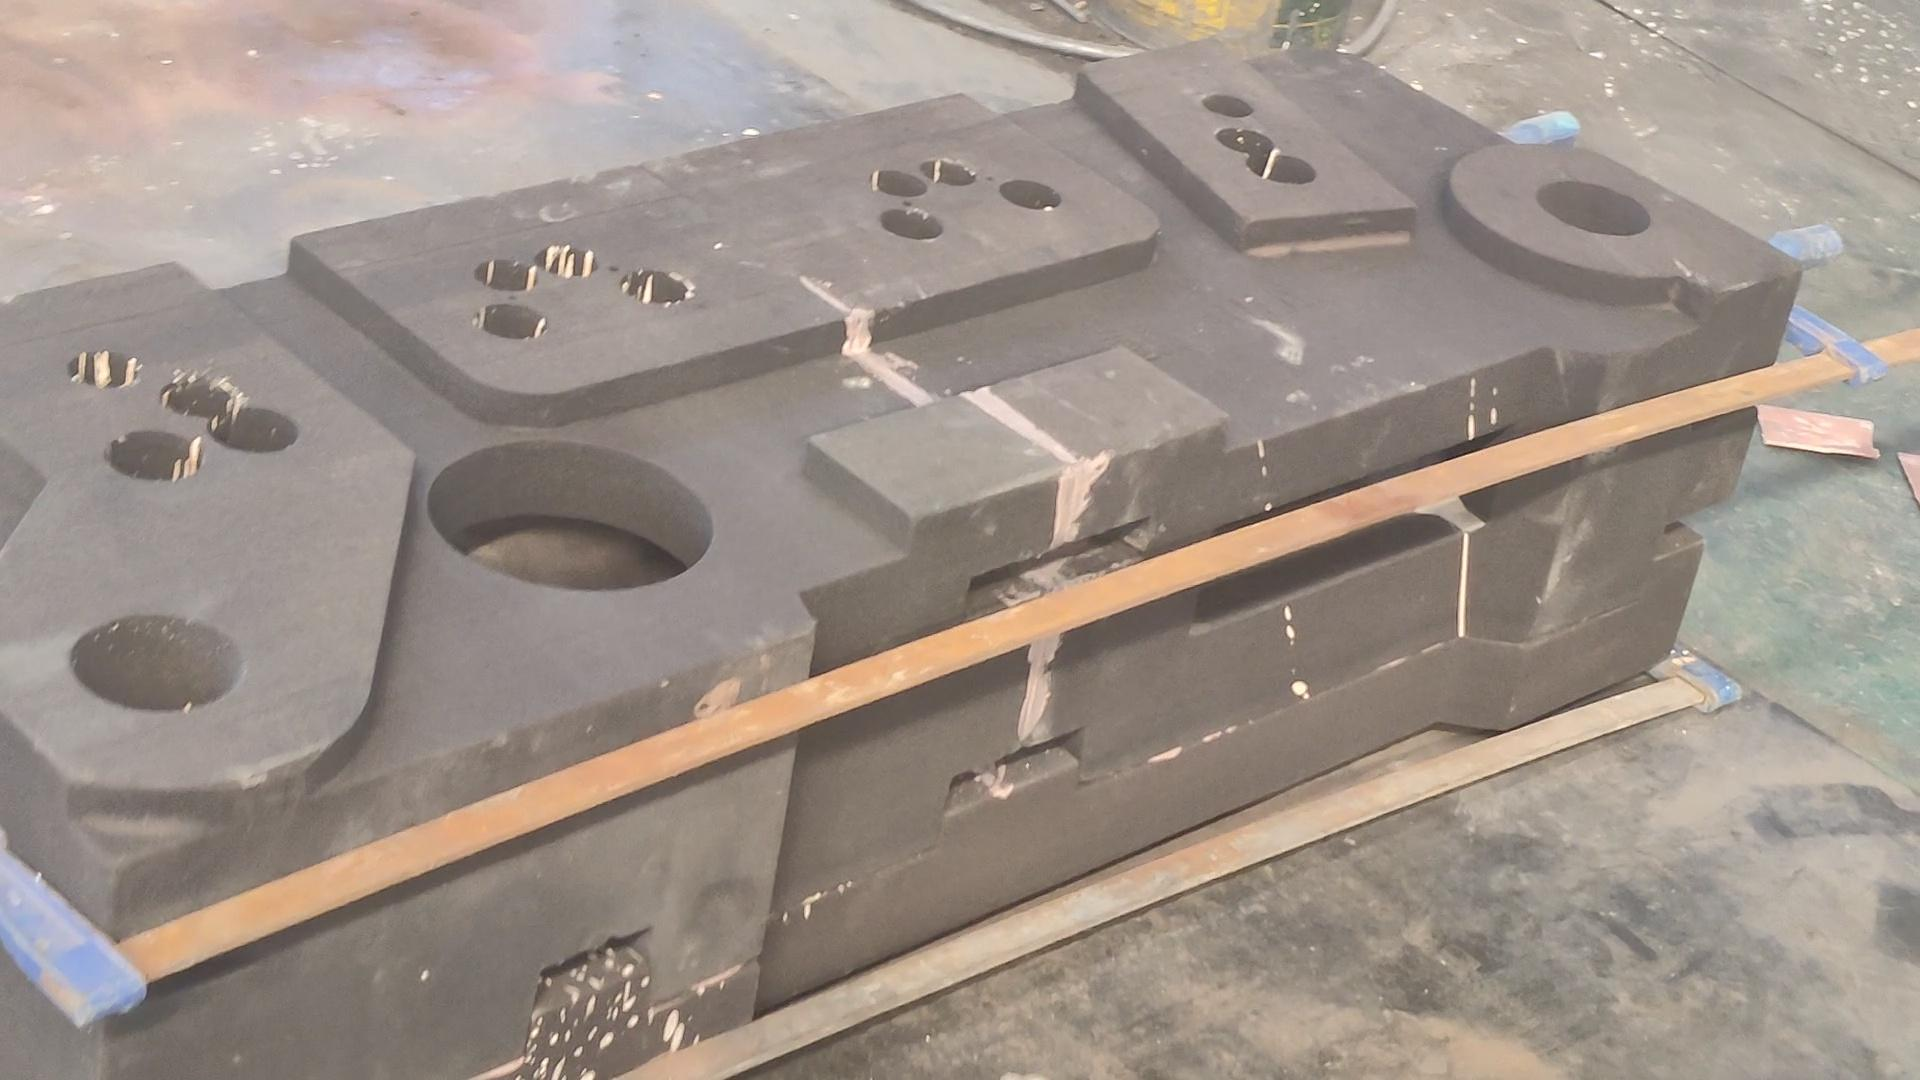pouring hole: (69, 616, 243, 709), (1536, 179, 1650, 236)
